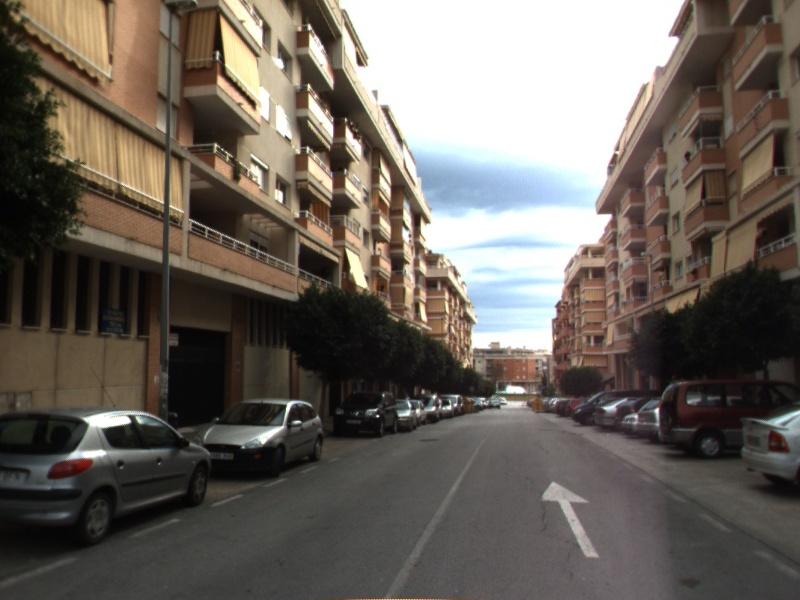STRAIGHT: (537, 479, 602, 559)
